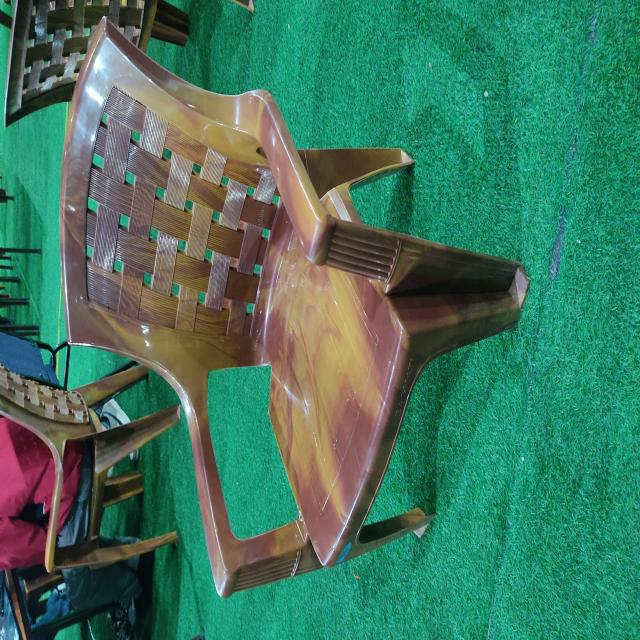Camer Stand: (57, 14, 530, 600)
